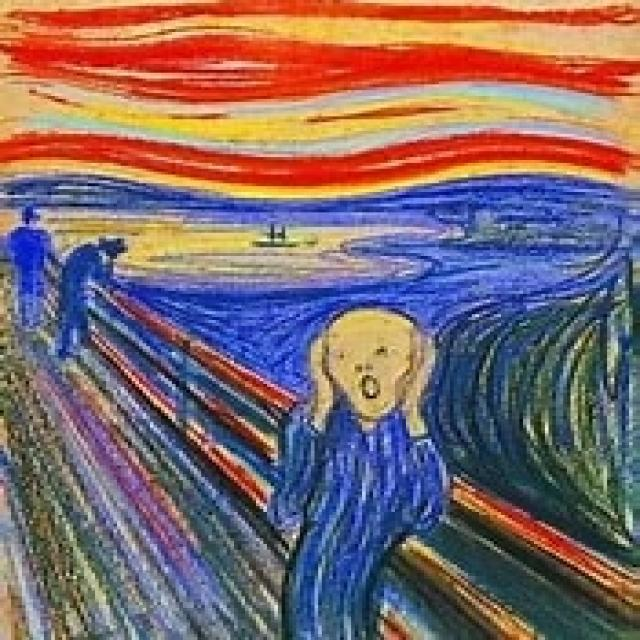skrik: (5, 2, 637, 635)
